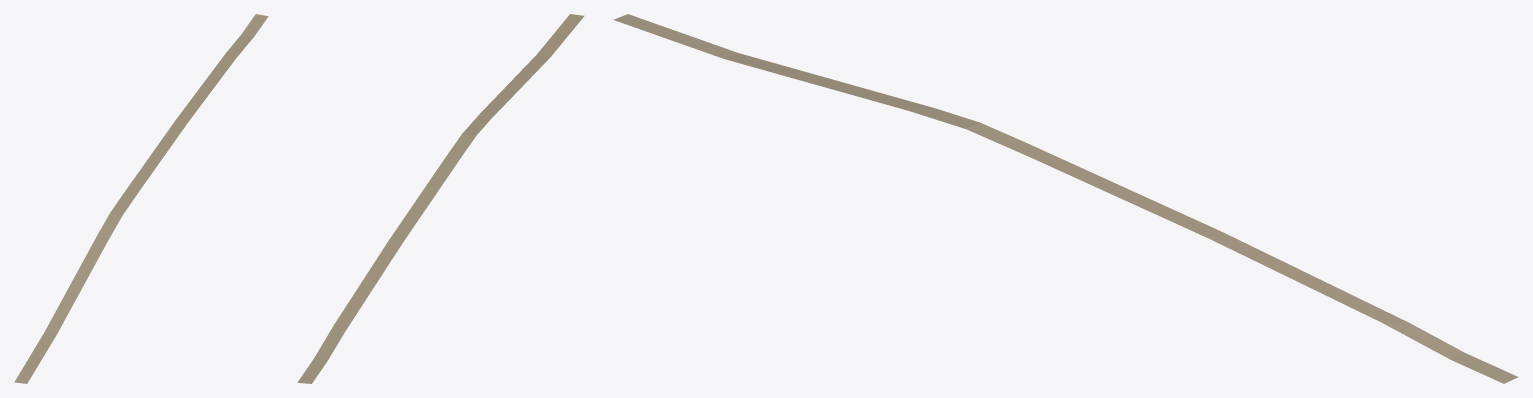
Rendered from farm_-4_7_track.glb.
3 renders of one model, left to right at view 1: azimuth 30°, elevation 25°; view 2: azimuth 210°, elevation 25°; view 3: azimuth 270°, elevation 25°, orthographic. The views are drawn at different scales.
Visible parts, largest first — view 1: geometry_0; view 2: geometry_0; view 3: geometry_0.
Boxes of the visible parts, x1=… form: geometry_0: x1=14, y1=14, x2=268, y2=383; geometry_0: x1=297, y1=14, x2=584, y2=383; geometry_0: x1=613, y1=14, x2=1518, y2=383.
Size of the model in its own units: 153 by 8.52 by 146.
